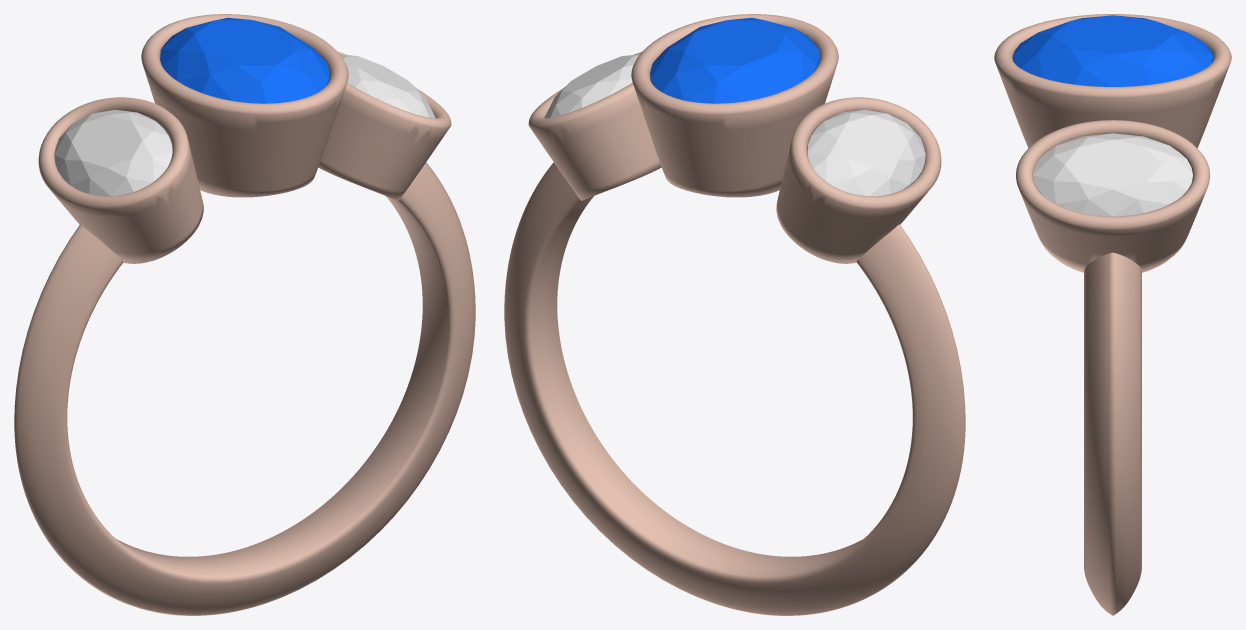
File: bluesapphire-oval-rosegold-bezelset-knifeedge-3stone.glb
3 renders of one model, left to right at view 1: azimuth 30°, elevation 25°; view 2: azimuth 150°, elevation 25°; view 3: azimuth 270°, elevation 25°, orthographic.
Parts seen in each view (by area): view 1: metal, stone.002, side.004, side.005; view 2: metal, stone.002, side.004, side.005; view 3: metal, stone.002, side.005.
Part boxes in pixels (x1,y1,x2,y2): metal: (14,14,475,615); stone.002: (160,17,329,103); side.004: (54,109,172,196); side.005: (340,54,435,118); metal: (504,14,965,615); stone.002: (650,17,819,103); side.004: (807,109,925,196); side.005: (544,54,639,118); metal: (994,14,1231,615); stone.002: (1012,15,1213,86); side.005: (1033,133,1192,216).
Bounding box in the file's own units: 19.94 × 23.4 × 9.04.
